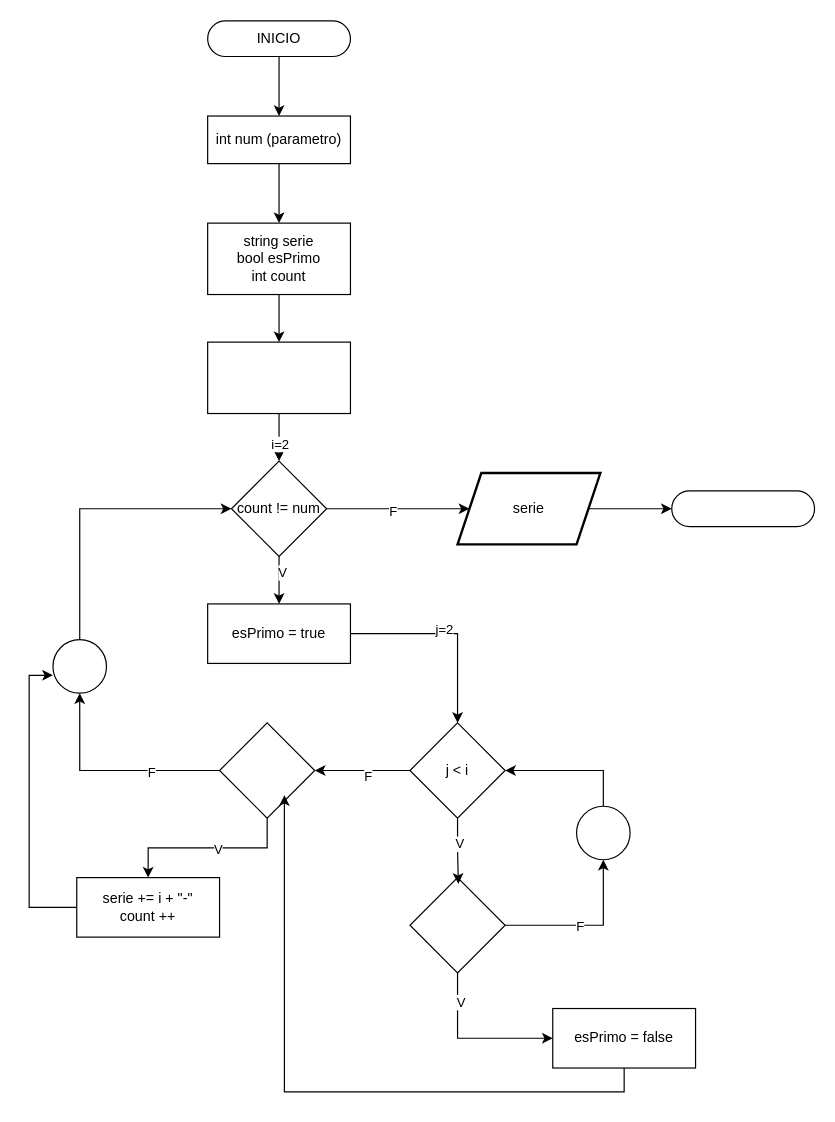
The diagram is 835 pixels wide and 1122 high, and some of its shapes have lost their labels. Here are the shapes that lost their labels. From the top down, the box of each, then its label:
(206, 341, 350, 414): serie = "" esPrimo = true count = 0
(671, 490, 815, 527): FIN
(218, 722, 315, 818): esPrimo
(409, 876, 505, 973): i % j = 0
